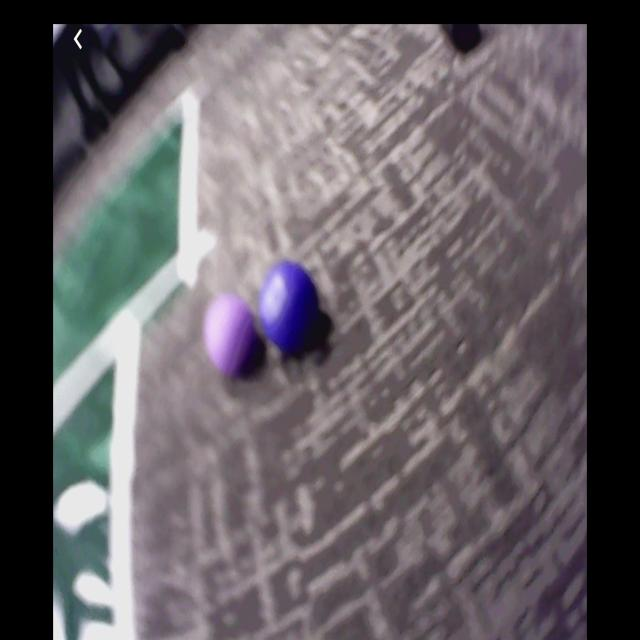ball: (260, 263, 321, 353), (207, 296, 258, 377)
